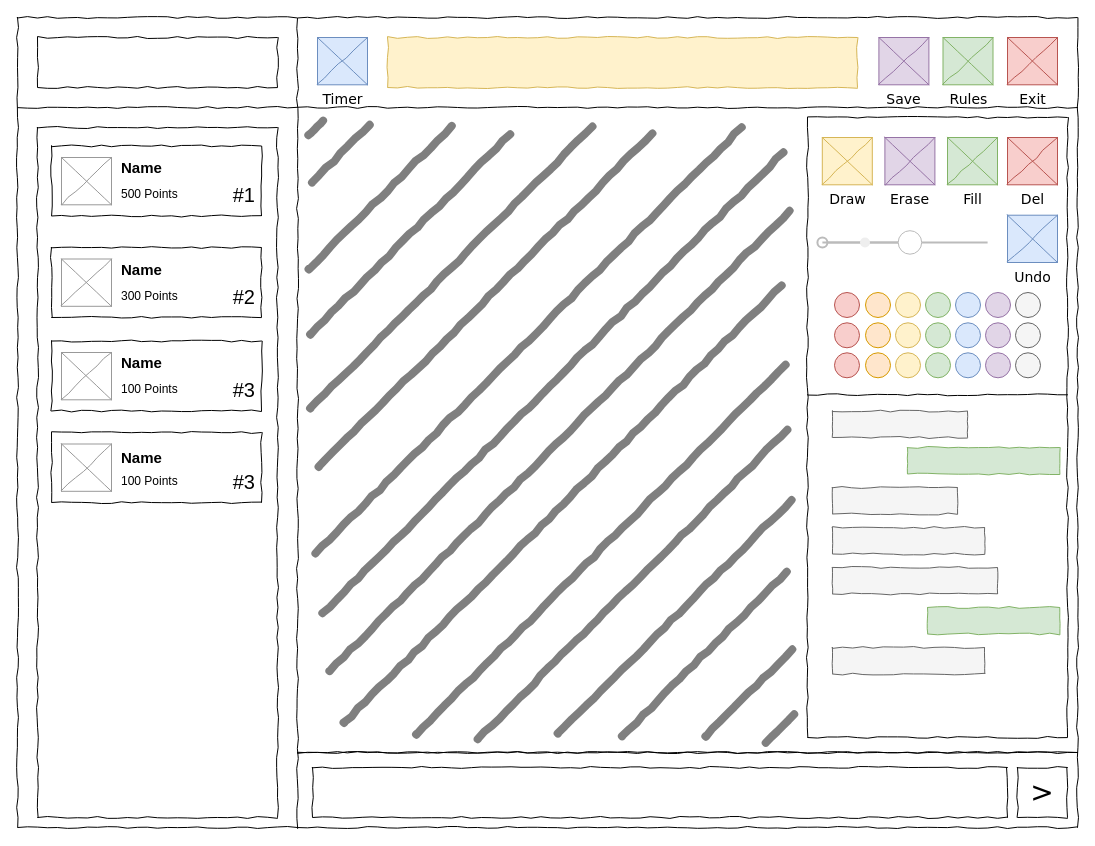
The diagram is 1095 pixels wide and 846 high, and some of its shapes have lost their labels. The shapes that lost their labels are listed below. From the top down, each one's centre as x and y in pixels, then its label:
At point (157, 62): "LOGO".
At point (622, 62): "Sketch: XXXXX".
At point (660, 792): "INPUT FIELD".
